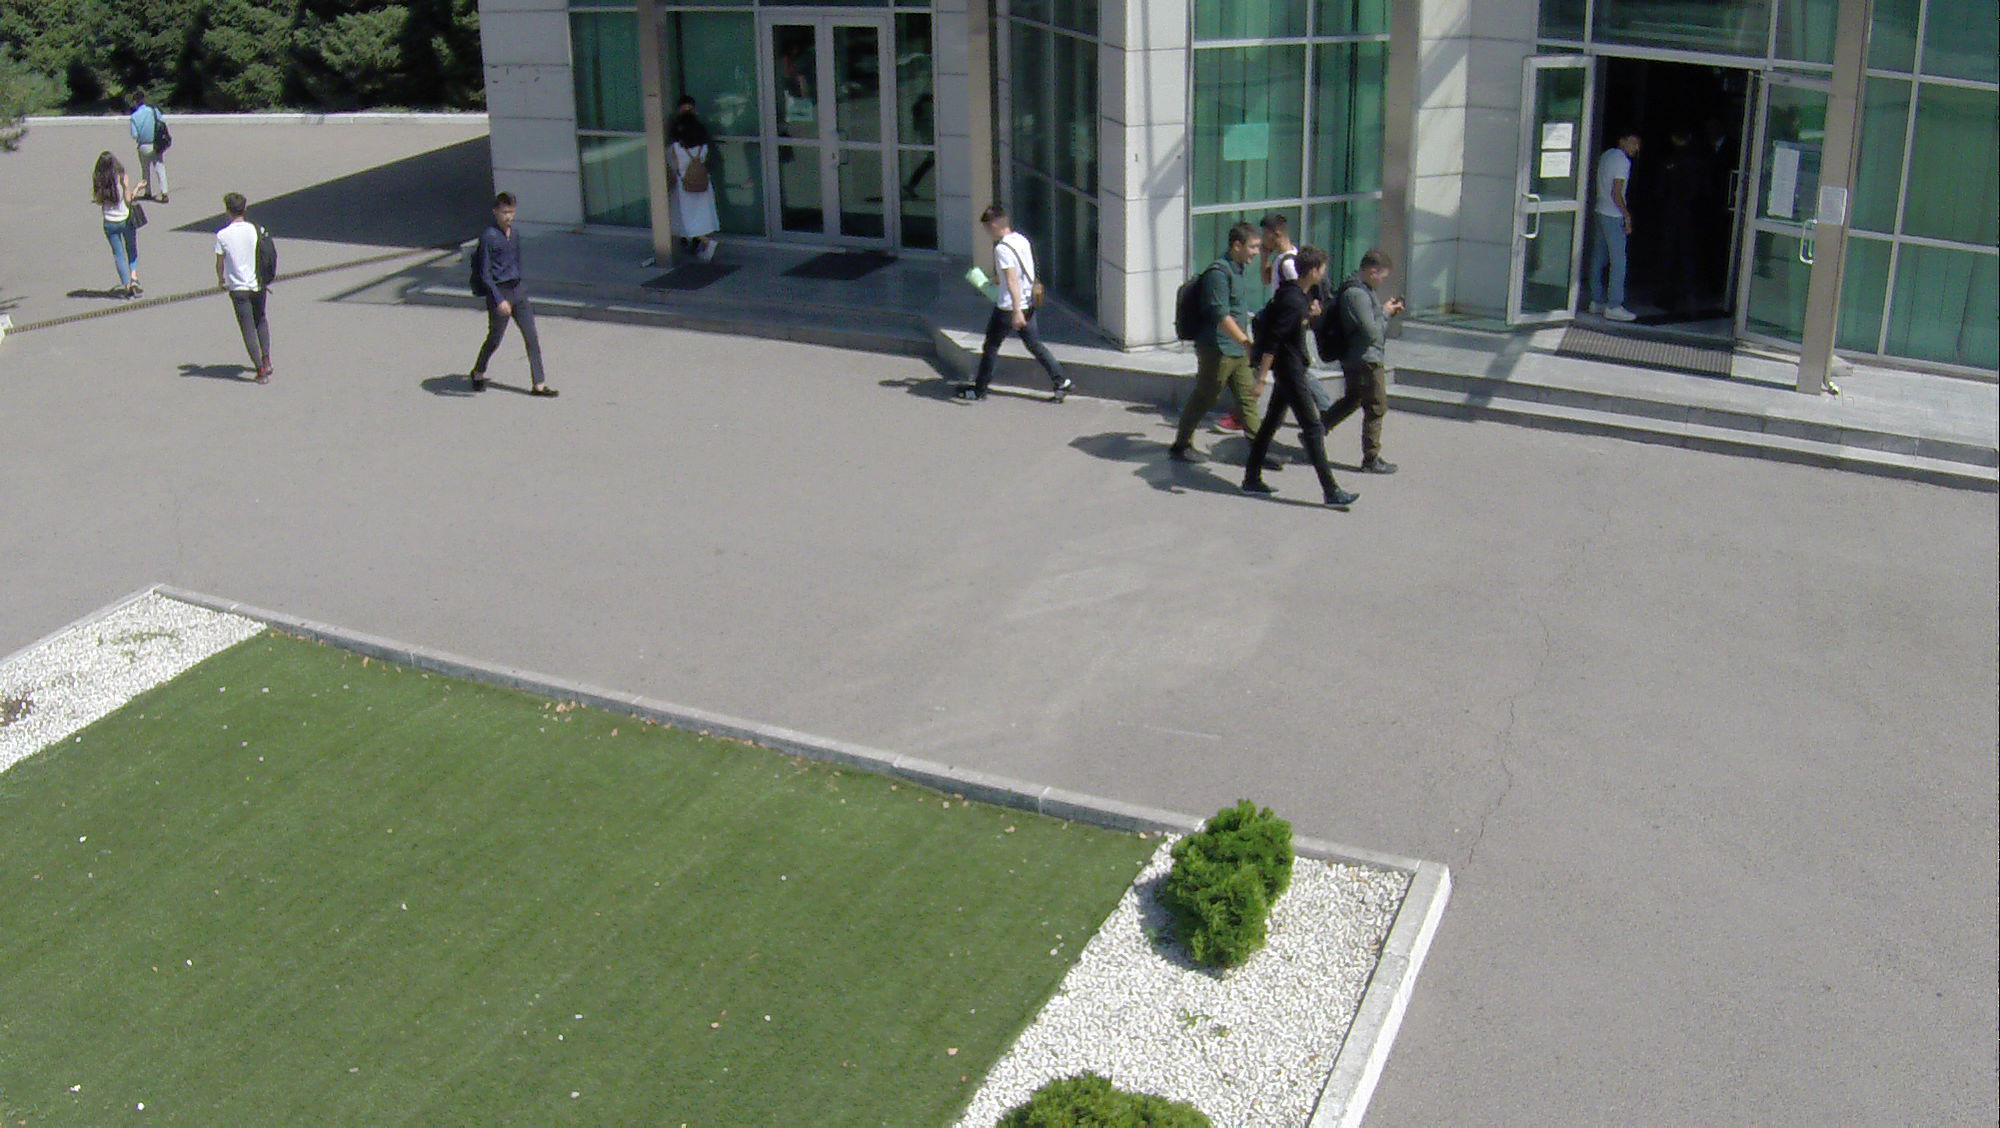person: (1253, 245, 1359, 522), (957, 196, 1081, 418), (1173, 215, 1276, 473), (1318, 243, 1416, 486), (465, 184, 564, 411), (211, 185, 286, 393), (1653, 117, 1714, 328), (1588, 120, 1647, 328), (84, 148, 153, 303), (661, 110, 727, 269), (126, 87, 176, 205), (1255, 205, 1297, 282)
